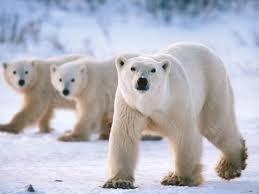bear: (106, 42, 247, 190), (50, 58, 165, 141), (2, 55, 97, 135)
